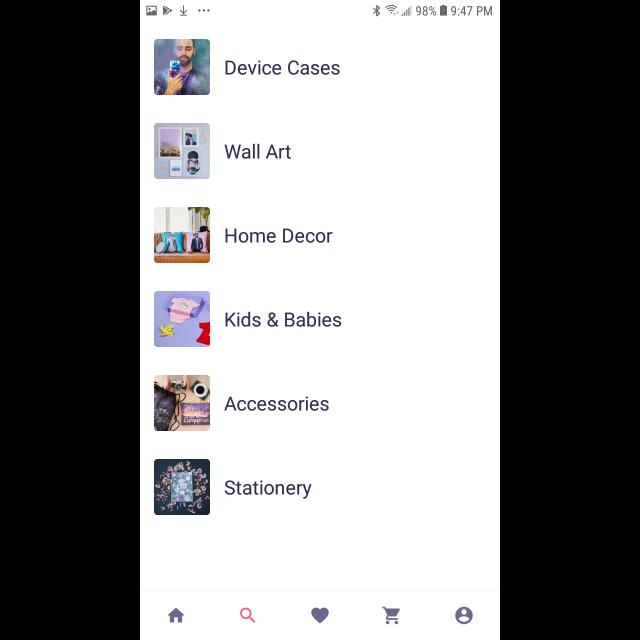icon: (455, 607, 473, 625), (382, 607, 400, 625), (311, 607, 329, 623), (240, 607, 256, 623), (168, 608, 185, 622)
image: (154, 459, 210, 515), (154, 375, 210, 431), (154, 291, 210, 347), (154, 207, 210, 263), (154, 123, 210, 179), (154, 39, 210, 95)
text: (226, 312, 342, 328), (226, 60, 340, 76), (225, 480, 312, 500), (225, 228, 332, 244), (224, 396, 330, 412), (224, 144, 292, 160)
uppertaskbar: (140, 1, 500, 17)
